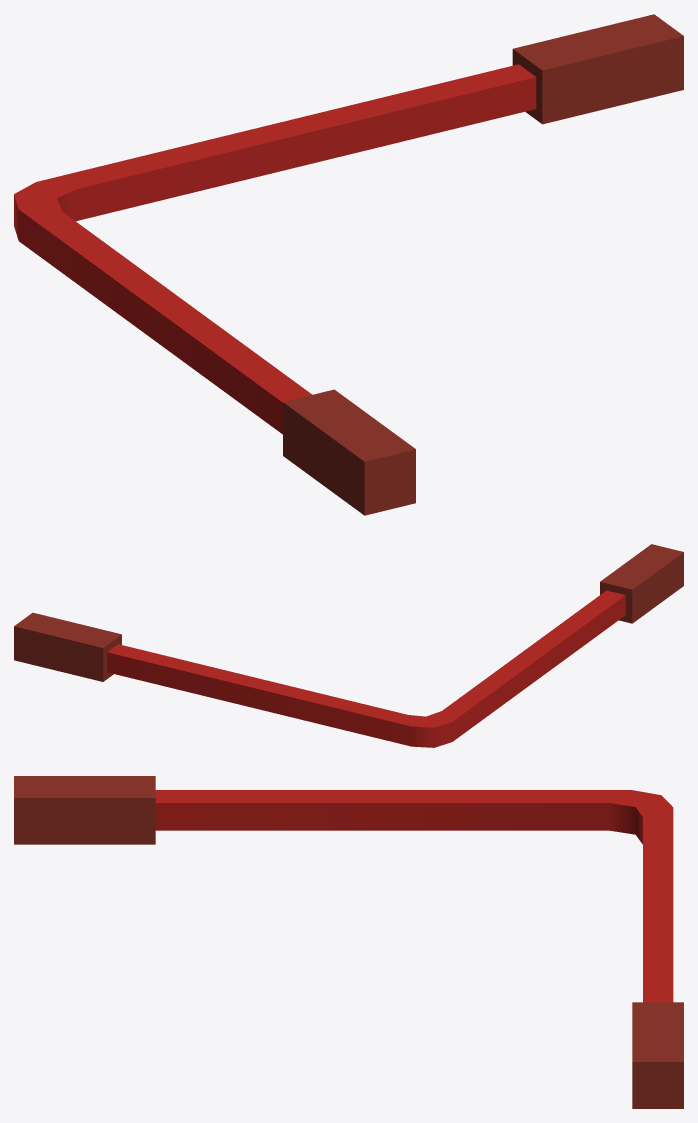
File: Cable_E_2_3.fbx
3 views of the same model, one above another, from view 1: azimuth 30°, elevation 25°; view 2: azimuth 150°, elevation 25°; view 3: azimuth 270°, elevation 25° (orthographic). The views are drawn at different scales.
Visible parts, largest first — view 1: Cable_E_2_3; view 2: Cable_E_2_3; view 3: Cable_E_2_3.
Part boxes in pixels (x1=…): Cable_E_2_3: x1=14, y1=14, x2=683, y2=515; Cable_E_2_3: x1=14, y1=544, x2=683, y2=747; Cable_E_2_3: x1=14, y1=776, x2=683, y2=1108.
Size of the model in its own units: 129 by 9.83 by 128.
